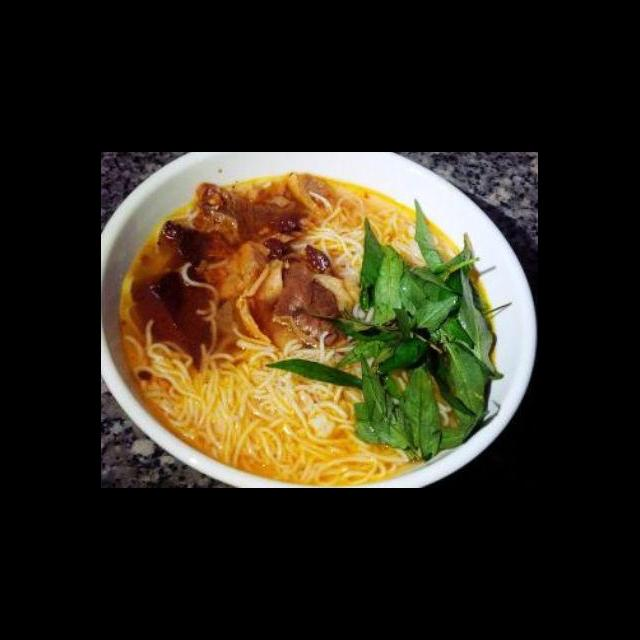bun: (121, 316, 412, 488), (288, 182, 420, 285)
rau ram: (310, 213, 518, 465), (409, 197, 498, 374), (264, 355, 368, 390)
